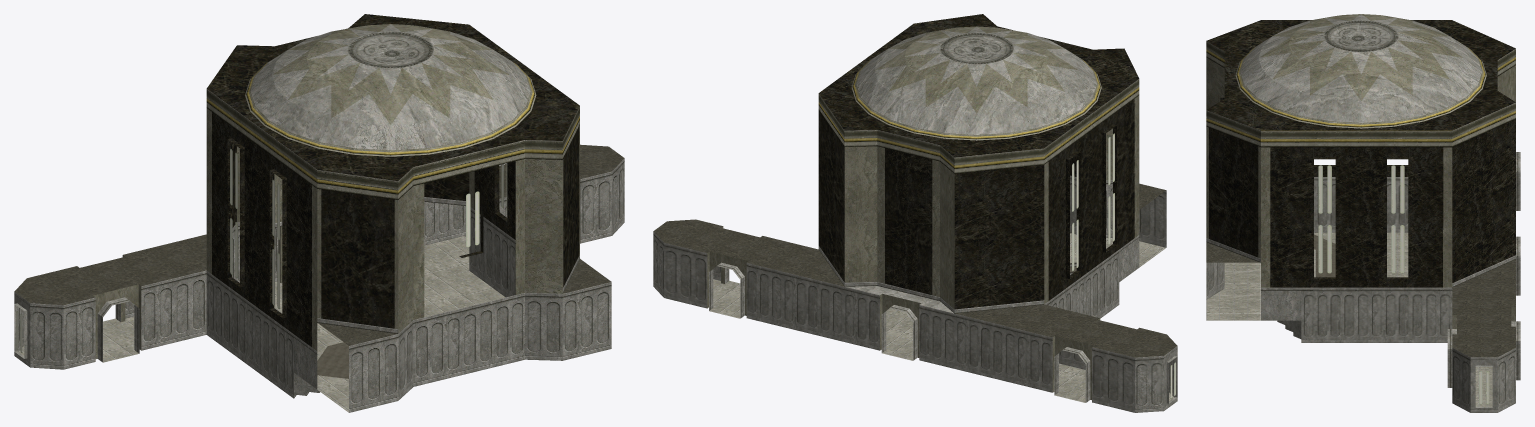
Rendered from mun_all_guild_commerce_s01_r4_mainroom_mesh_mainroom.fbx.
The picture shows the model from 3 angles, left to right: view 1: azimuth 30°, elevation 25°; view 2: azimuth 150°, elevation 25°; view 3: azimuth 270°, elevation 25°; orthographic projection. The views are drawn at different scales.
Visible parts, largest first — view 1: mesh_node; view 2: mesh_node; view 3: mesh_node.
Part boxes in pixels (x1,y1,x2,y2): mesh_node: (14,14,624,412); mesh_node: (653,14,1177,412); mesh_node: (1206,14,1520,412).
Size of the model in its own units: 32.83 by 15.24 by 17.25.
